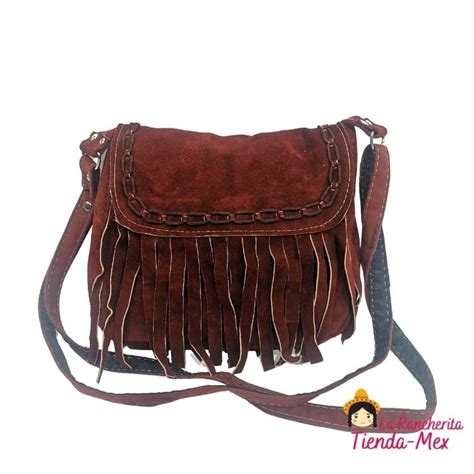gamuza: (88, 120, 363, 372)
